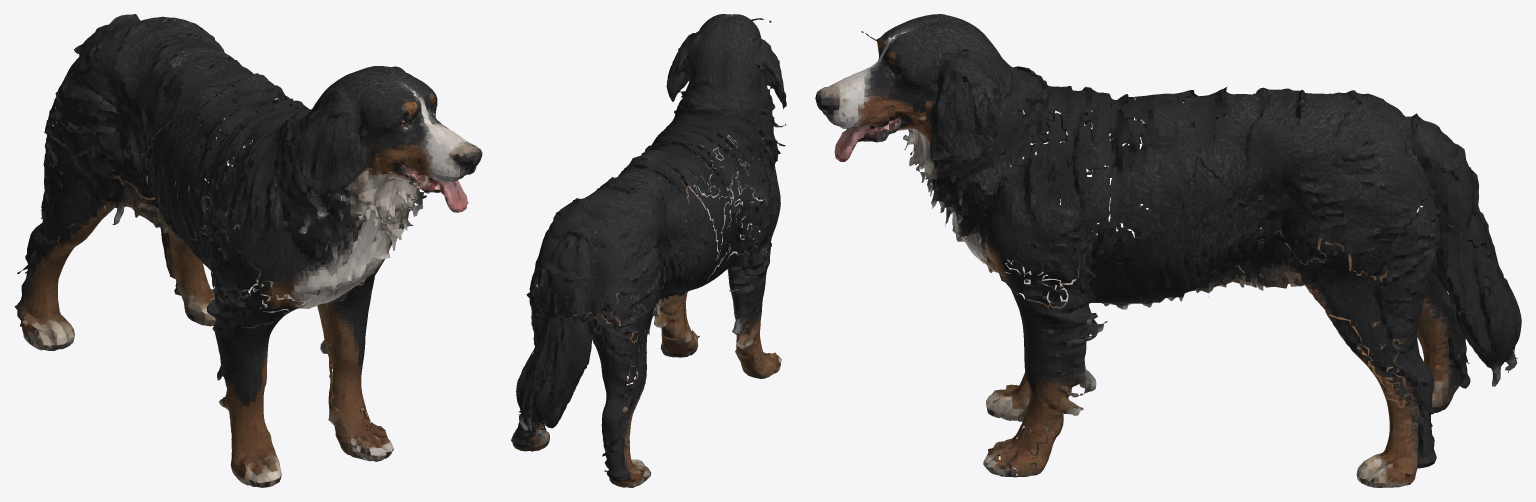
The model's file is daisy.glb.
The picture shows the model from 3 angles, left to right: view 1: azimuth 30°, elevation 25°; view 2: azimuth 150°, elevation 25°; view 3: azimuth 270°, elevation 25°; orthographic projection. The views are drawn at different scales.
Parts seen in each view (by area): view 1: tripo_node_37ac1cdb-b341-4ee7-8d31-826d832d59bc_0; view 2: tripo_node_37ac1cdb-b341-4ee7-8d31-826d832d59bc_0; view 3: tripo_node_37ac1cdb-b341-4ee7-8d31-826d832d59bc_0.
Boxes of the visible parts, bbox=[...] form: tripo_node_37ac1cdb-b341-4ee7-8d31-826d832d59bc_0: bbox=[14, 14, 482, 487]; tripo_node_37ac1cdb-b341-4ee7-8d31-826d832d59bc_0: bbox=[511, 14, 786, 487]; tripo_node_37ac1cdb-b341-4ee7-8d31-826d832d59bc_0: bbox=[815, 14, 1521, 487].
Size of the model in its own units: 0.2996 by 0.6259 by 0.9195.
Materials: 1 (1 with a texture image).
